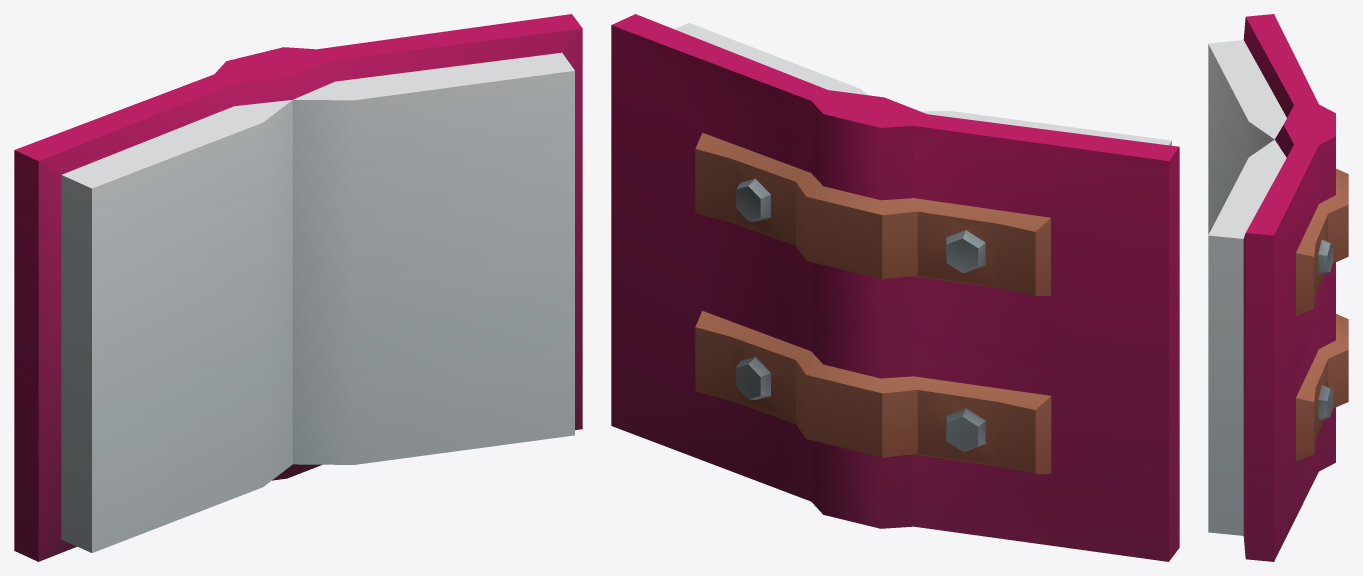
The model's file is spellbook_open.glb.
3 views of the same model, side by side, from view 1: azimuth 30°, elevation 25°; view 2: azimuth 150°, elevation 25°; view 3: azimuth 270°, elevation 25° (orthographic). The views are drawn at different scales.
Visible parts, largest first — view 1: spellbook_open; view 2: spellbook_open; view 3: spellbook_open.
Boxes of the visible parts, bbox=[...] form: spellbook_open: bbox=[14, 14, 582, 561]; spellbook_open: bbox=[611, 14, 1179, 561]; spellbook_open: bbox=[1208, 14, 1348, 561].
Size of the model in its own units: 0.8282 by 0.5688 by 0.2219.
Materials: 1 (1 with a texture image).
